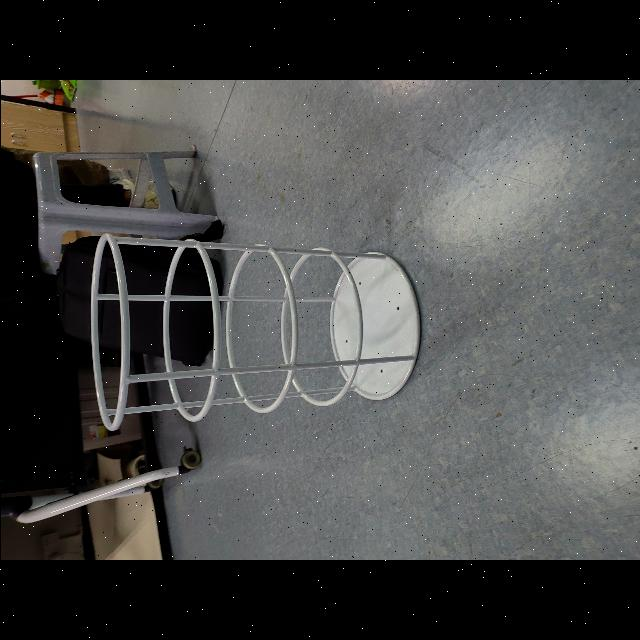S: (86, 229, 424, 435)
